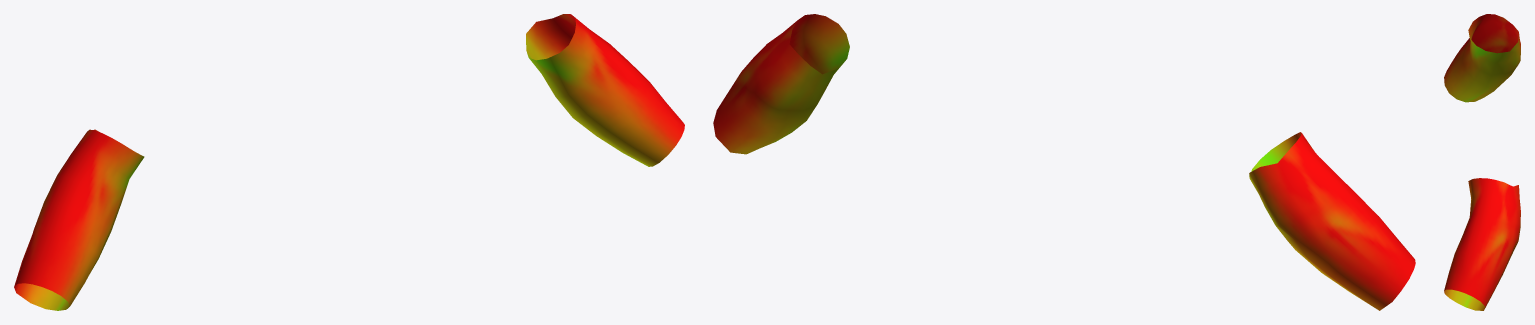
File: lowerarms.obj
3 views of the same model, side by side, from view 1: azimuth 30°, elevation 25°; view 2: azimuth 150°, elevation 25°; view 3: azimuth 270°, elevation 25° (orthographic). The views are drawn at different scales.
Parts seen in each view (by area): view 1: lowerarms_0; view 2: lowerarms_0; view 3: lowerarms_0.
Part boxes in pixels (<box>): lowerarms_0: <box>14,14,684,310</box>; lowerarms_0: <box>713,14,1415,310</box>; lowerarms_0: <box>1444,14,1520,310</box>.
Size of the model in its own units: 0.7843 by 0.1753 by 0.111.
Materials: 1 (1 with a texture image).
